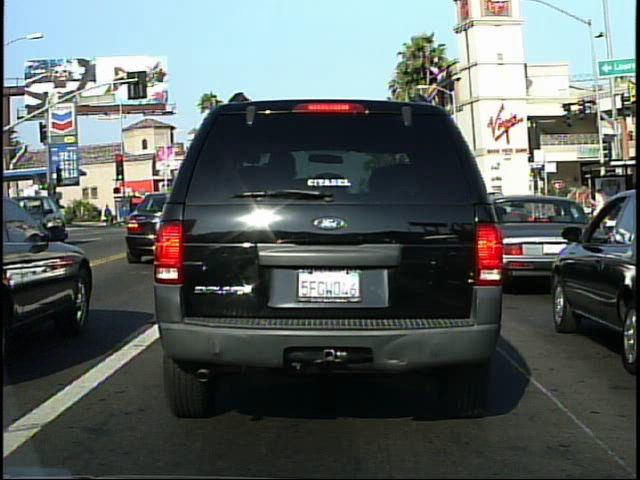person: (588, 184, 609, 243), (101, 199, 116, 230)
